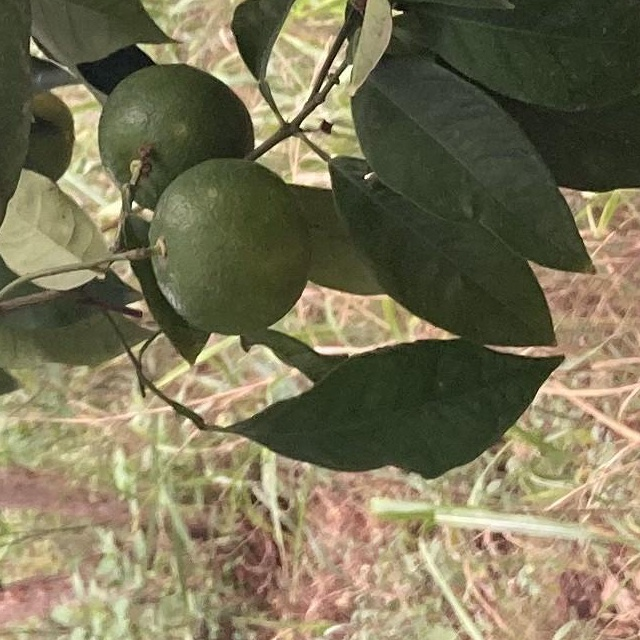orange: (145, 159, 309, 339), (91, 61, 259, 203), (17, 92, 79, 188)
